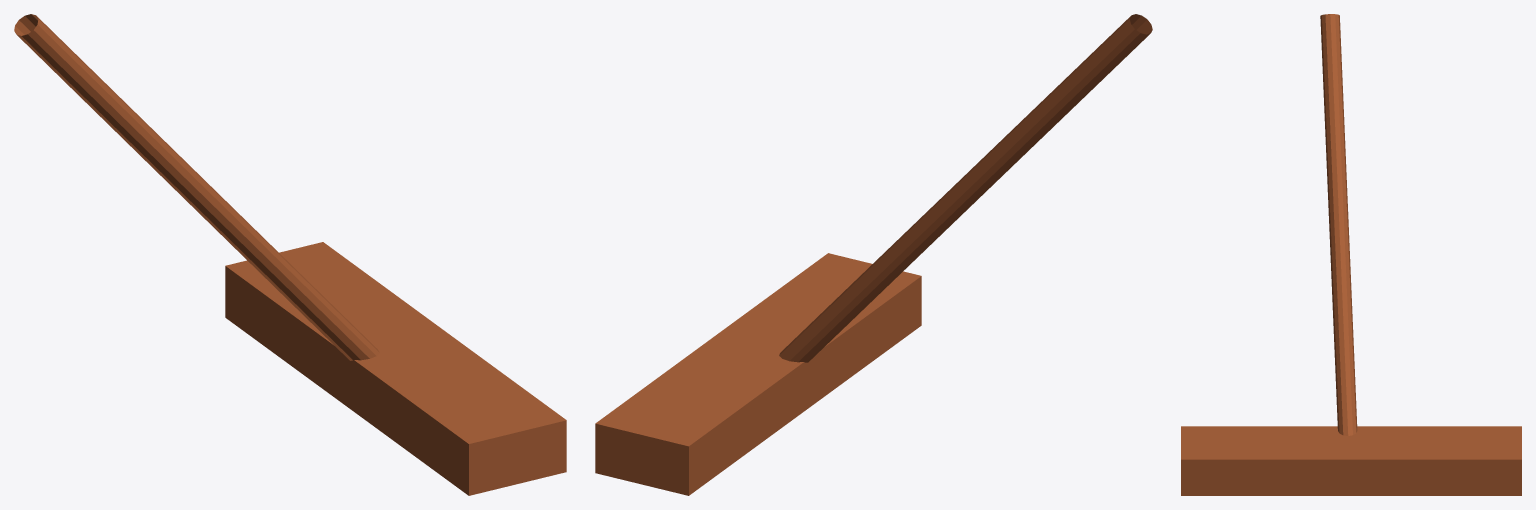
Rendered from sweeper.FBX.
3 views of the same model, side by side, from view 1: azimuth 30°, elevation 25°; view 2: azimuth 150°, elevation 25°; view 3: azimuth 270°, elevation 25° (orthographic). The views are drawn at different scales.
Parts seen in each view (by area): view 1: Box001, default; view 2: Box001, default; view 3: Box001, default.
Part boxes in pixels (bbox=[...]): Box001: bbox=[225, 242, 566, 495]; default: bbox=[14, 14, 379, 360]; Box001: bbox=[595, 253, 921, 495]; default: bbox=[779, 14, 1152, 362]; Box001: bbox=[1181, 426, 1521, 495]; default: bbox=[1320, 14, 1357, 435].
Size of the model in its own units: 0.892 by 0.926 by 0.8481.
